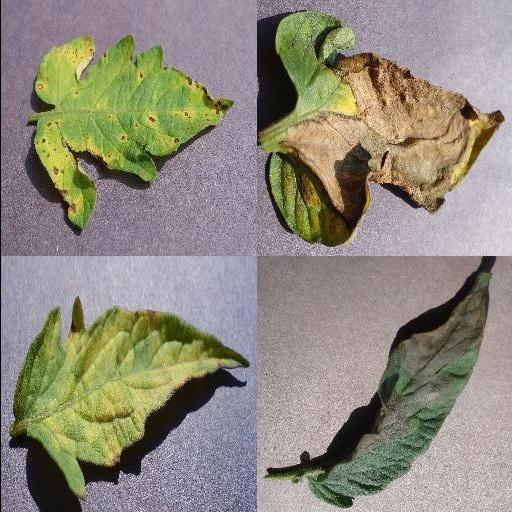Late Blight: (266, 11, 506, 249), (304, 270, 492, 510)
Leaf Mold: (13, 294, 249, 500)
Septoria: (32, 37, 234, 230)
